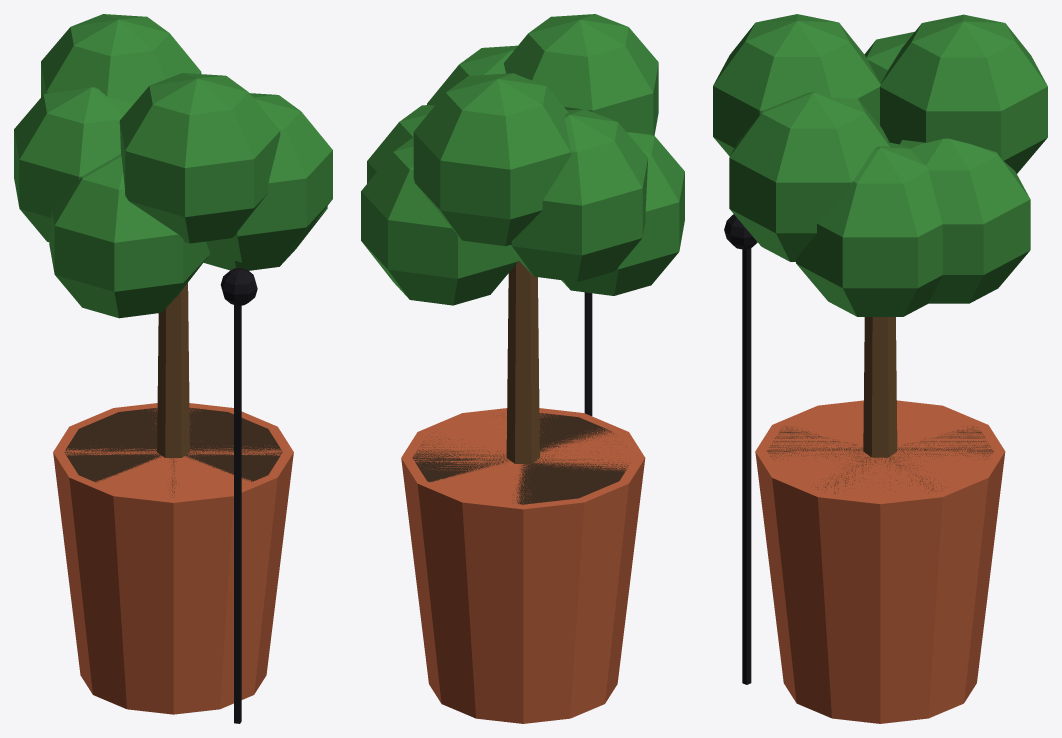
File: reception_plant.glb
3 views of the same model, side by side, from view 1: azimuth 30°, elevation 25°; view 2: azimuth 150°, elevation 25°; view 3: azimuth 270°, elevation 25° (orthographic). The views are drawn at different scales.
Parts seen in each view (by area): view 1: leaves_leaf (×6), pot_terracotta, soil_soil, trunk_trunk, cable_black, mic_black; view 2: leaves_leaf (×7), pot_terracotta, soil_soil, trunk_trunk, cable_black; view 3: leaves_leaf (×6), pot_terracotta, trunk_trunk, cable_black, soil_soil, mic_black.
Part boxes in pixels (bbox=[...]): leaves_leaf (×6): bbox=[14, 14, 332, 318]; pot_terracotta: bbox=[53, 403, 293, 714]; soil_soil: bbox=[64, 407, 282, 495]; trunk_trunk: bbox=[157, 283, 189, 457]; cable_black: bbox=[234, 305, 241, 723]; mic_black: bbox=[220, 268, 257, 305]; leaves_leaf (×7): bbox=[361, 14, 684, 305]; pot_terracotta: bbox=[401, 408, 645, 723]; soil_soil: bbox=[412, 413, 630, 504]; trunk_trunk: bbox=[506, 260, 539, 463]; cable_black: bbox=[584, 292, 592, 415]; leaves_leaf (×6): bbox=[713, 14, 1047, 316]; pot_terracotta: bbox=[755, 400, 1005, 723]; trunk_trunk: bbox=[863, 317, 897, 457]; cable_black: bbox=[742, 248, 751, 684]; soil_soil: bbox=[767, 426, 993, 493]; mic_black: bbox=[724, 214, 757, 249].
Size of the model in its own units: 0.5749 by 1.27 by 0.5894.
